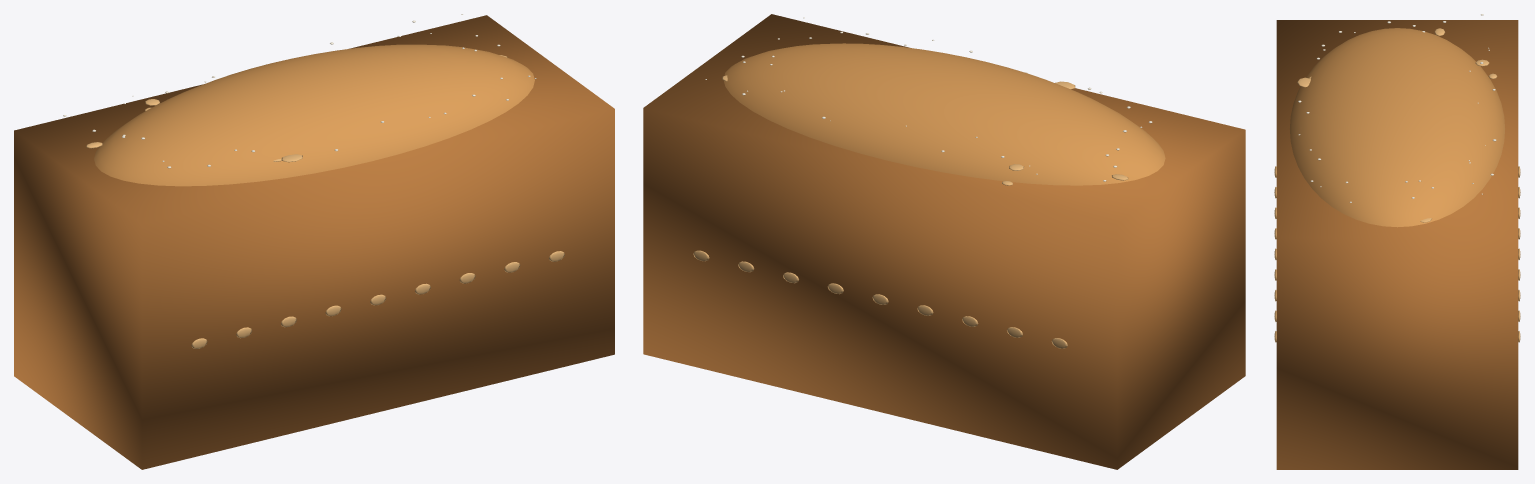
The model's file is PanCaja.glb.
3 renders of one model, left to right at view 1: azimuth 30°, elevation 25°; view 2: azimuth 150°, elevation 25°; view 3: azimuth 270°, elevation 25°, orthographic. The views are drawn at different scales.
Visible parts, largest first — view 1: Pan_De_Caja_Cuerpo, Cubierta_Superior; view 2: Pan_De_Caja_Cuerpo, Cubierta_Superior; view 3: Pan_De_Caja_Cuerpo, Cubierta_Superior.
Boxes of the visible parts, bbox=[...] form: Pan_De_Caja_Cuerpo: bbox=[14, 15, 614, 469]; Cubierta_Superior: bbox=[94, 44, 534, 186]; Pan_De_Caja_Cuerpo: bbox=[643, 14, 1245, 469]; Cubierta_Superior: bbox=[723, 43, 1165, 185]; Pan_De_Caja_Cuerpo: bbox=[1276, 20, 1518, 469]; Cubierta_Superior: bbox=[1290, 28, 1504, 227].
Size of the model in its own units: 1.45 by 0.85 by 0.692.
